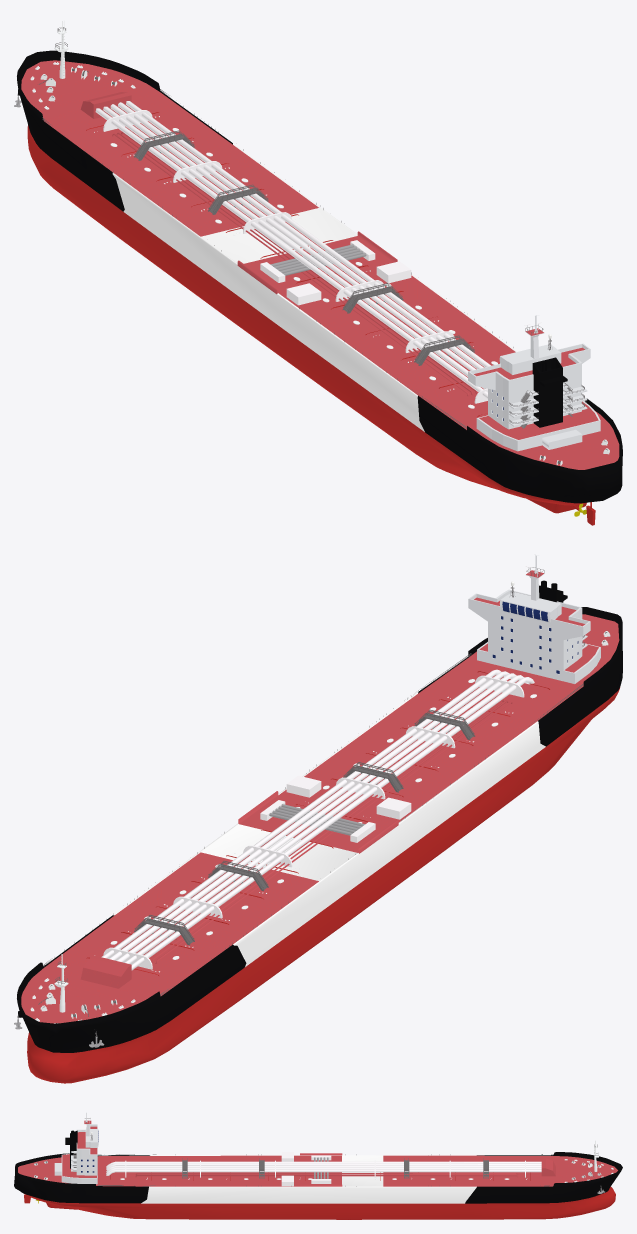
File: barge-animation-ship.glb
3 renders of one model, top to bottom at view 1: azimuth 30°, elevation 25°; view 2: azimuth 150°, elevation 25°; view 3: azimuth 270°, elevation 25°, orthographic. The views are drawn at different scales.
Parts seen in each view (by area): view 1: Cube_28, Cube.005_5, Cube.004_4, Cube.002_1, Plane_25, Cube.006_6, Cube.001_3; view 2: Cube_28, Cube.005_5, Cube.004_4, Cube.002_1, Plane_25, Cube.001_3, Cube.006_6; view 3: Cube_28, Cube.005_5, Cube.002_1, Cube.004_4, Plane_25, Cube.001_3, Cube.011_13.
Boxes of the visible parts, <box> form: Cube_28: <box>17,50,622,505</box>; Cube.005_5: <box>95,101,490,398</box>; Cube.004_4: <box>103,110,487,403</box>; Cube.002_1: <box>112,124,484,396</box>; Plane_25: <box>134,130,474,365</box>; Cube.006_6: <box>270,244,366,275</box>; Cube.001_3: <box>80,92,131,118</box>; Cube_28: <box>17,585,622,1083</box>; Cube.005_5: <box>101,669,534,970</box>; Cube.004_4: <box>103,675,524,969</box>; Cube.002_1: <box>121,692,512,963</box>; Plane_25: <box>134,709,475,945</box>; Cube.001_3: <box>80,955,131,988</box>; Cube.006_6: <box>269,804,364,835</box>; Cube_28: <box>14,1124,622,1219</box>; Cube.005_5: <box>106,1161,541,1175</box>; Cube.002_1: <box>135,1173,518,1177</box>; Cube.004_4: <box>125,1152,525,1186</box>; Plane_25: <box>182,1158,488,1178</box>; Cube.001_3: <box>541,1158,555,1176</box>; Cube.011_13: <box>34,1159,613,1187</box>.
Size of the model in its own units: 20.15 by 27.15 by 162.
Materials: 1 (1 with a texture image).
